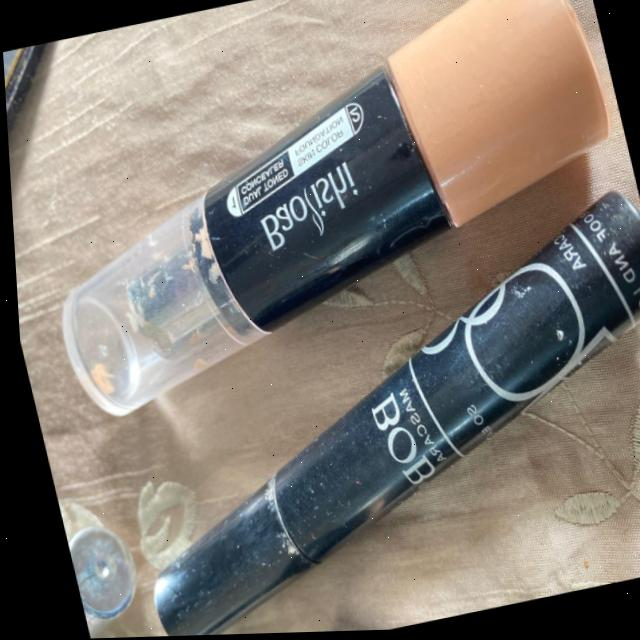bb cream: (16, 0, 634, 335)
mascara: (147, 291, 640, 637)
